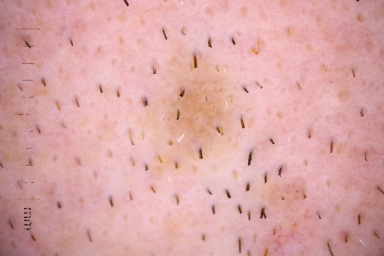nevus: (169, 80, 224, 133)
